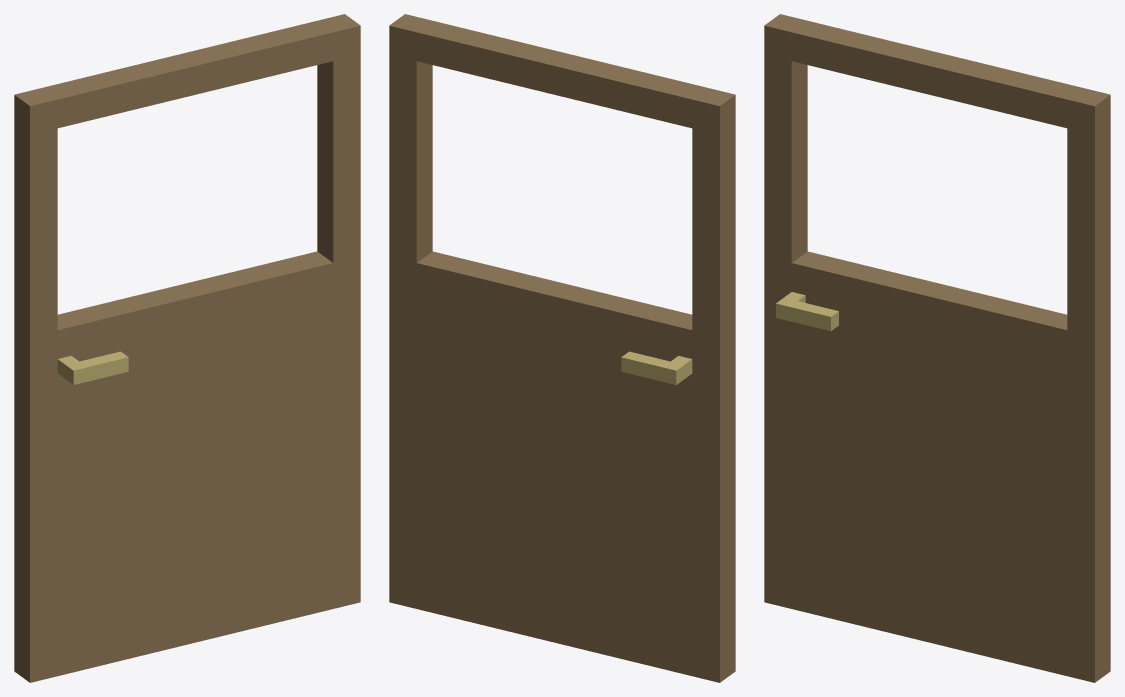
Rendered from Door01.gltf.
The picture shows the model from 3 angles, left to right: view 1: azimuth 30°, elevation 25°; view 2: azimuth 150°, elevation 25°; view 3: azimuth 330°, elevation 25°; orthographic projection.
Size of the model in its own units: 24 by 40 by 6.
